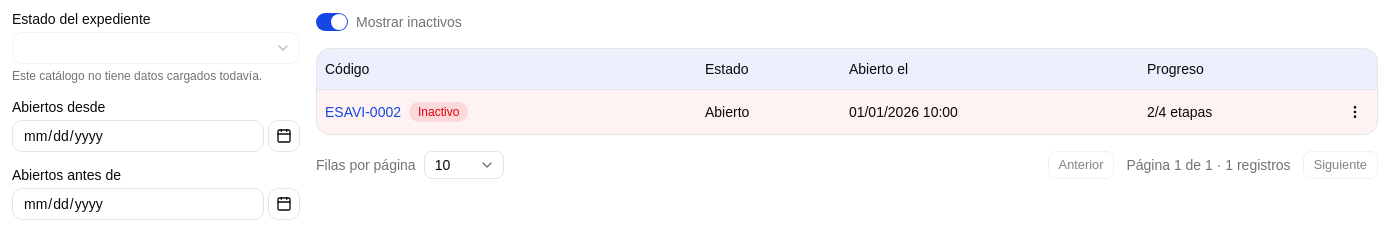
it: CaseWorkflowInbox — menú de fila del registro › con SUPERADMIN, la fila inactiva ofrece «Reactivar»
Click the button named "Acciones del registro".
click(1355, 112)  # box [1341, 98, 1369, 126]
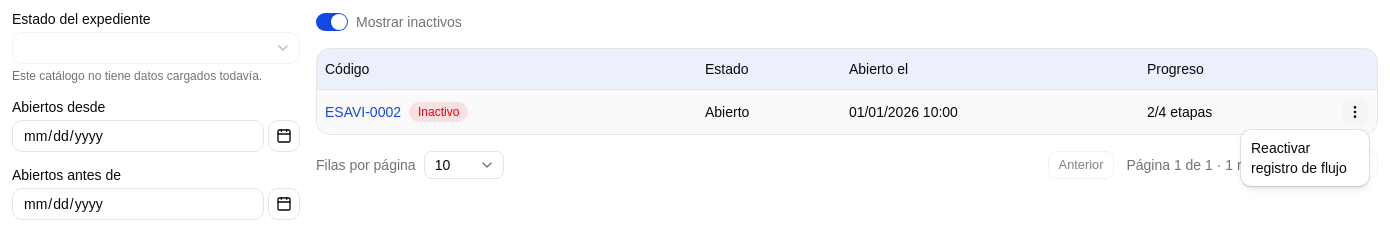
Now the menu item "Reactivar registro de flujo" is shown, box [1251, 140, 1347, 176]
